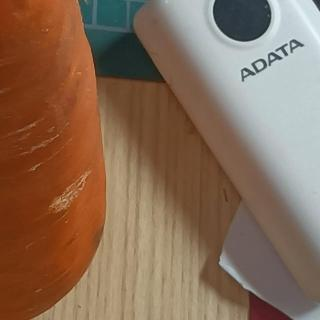carrot: (0, 0, 114, 320)
